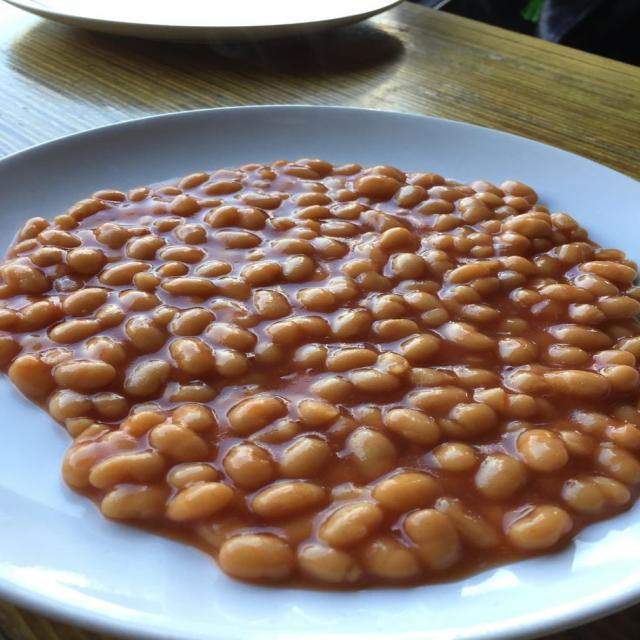beans: (0, 159, 639, 586), (219, 534, 294, 580), (404, 509, 460, 569), (436, 498, 499, 548), (507, 505, 573, 550), (89, 451, 165, 489), (319, 502, 383, 547), (251, 481, 325, 518), (562, 476, 630, 514), (167, 482, 233, 521), (347, 428, 397, 479), (373, 472, 437, 511), (298, 544, 361, 583), (361, 537, 419, 579), (475, 453, 526, 500), (228, 395, 286, 435), (223, 443, 273, 488), (149, 423, 208, 461), (100, 486, 166, 519), (518, 429, 568, 472), (279, 436, 330, 478), (385, 408, 440, 445), (54, 360, 116, 392), (545, 370, 610, 397), (170, 338, 215, 376), (447, 403, 497, 437), (125, 360, 170, 396), (597, 446, 639, 484), (440, 322, 495, 351), (0, 263, 50, 294), (409, 385, 467, 411), (549, 325, 611, 349), (125, 316, 166, 352), (207, 323, 256, 351), (48, 390, 92, 421), (167, 464, 219, 489), (62, 288, 108, 316), (580, 261, 636, 284), (99, 261, 150, 286), (85, 336, 126, 367), (348, 369, 400, 393), (20, 301, 63, 330), (169, 308, 214, 335), (400, 333, 440, 363), (434, 443, 476, 471), (173, 404, 215, 432), (327, 348, 377, 371), (298, 400, 339, 428), (310, 376, 354, 402), (162, 277, 216, 298), (354, 175, 399, 199), (92, 392, 129, 421), (254, 290, 291, 319), (240, 261, 281, 287), (499, 338, 537, 365), (126, 235, 166, 260), (298, 287, 336, 312)
